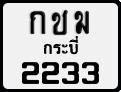letters: (51, 9, 68, 36), (61, 61, 80, 85), (21, 62, 40, 85), (41, 61, 60, 84), (29, 10, 46, 35), (81, 62, 99, 85), (74, 10, 89, 34)
province: (43, 35, 79, 55)
